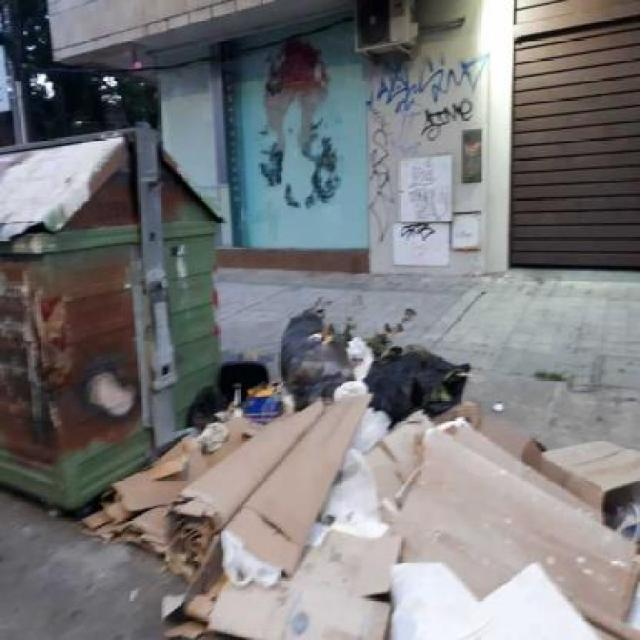garbage: (88, 300, 637, 638)
